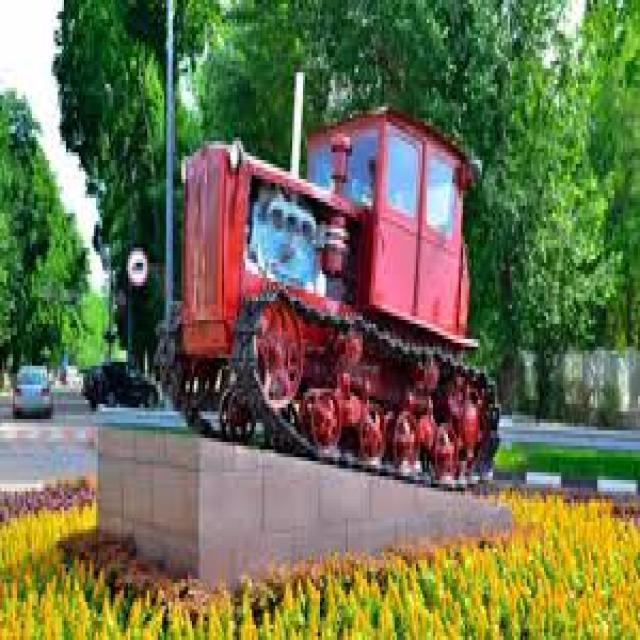Tratores - v5 YOLO V8L 2024-11-13: (157, 99, 502, 491)
